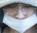mask_weared_incorrect: (2, 1, 37, 33)
